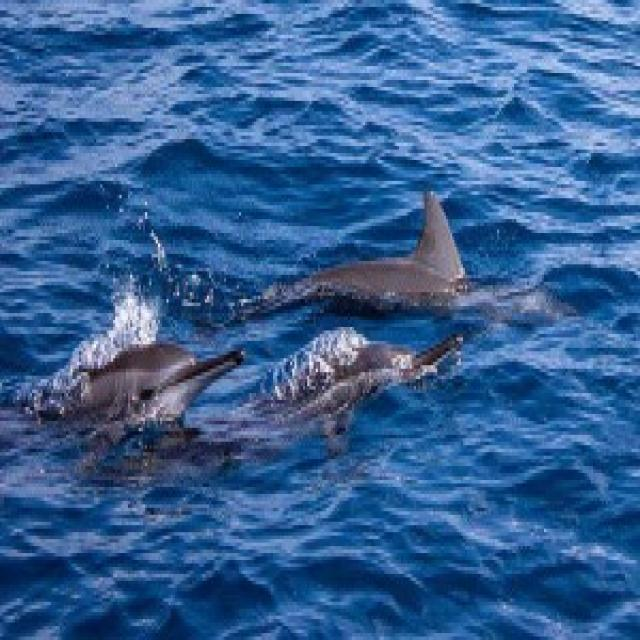Dolphin: (262, 172, 574, 324), (269, 322, 470, 466), (46, 330, 256, 443)
